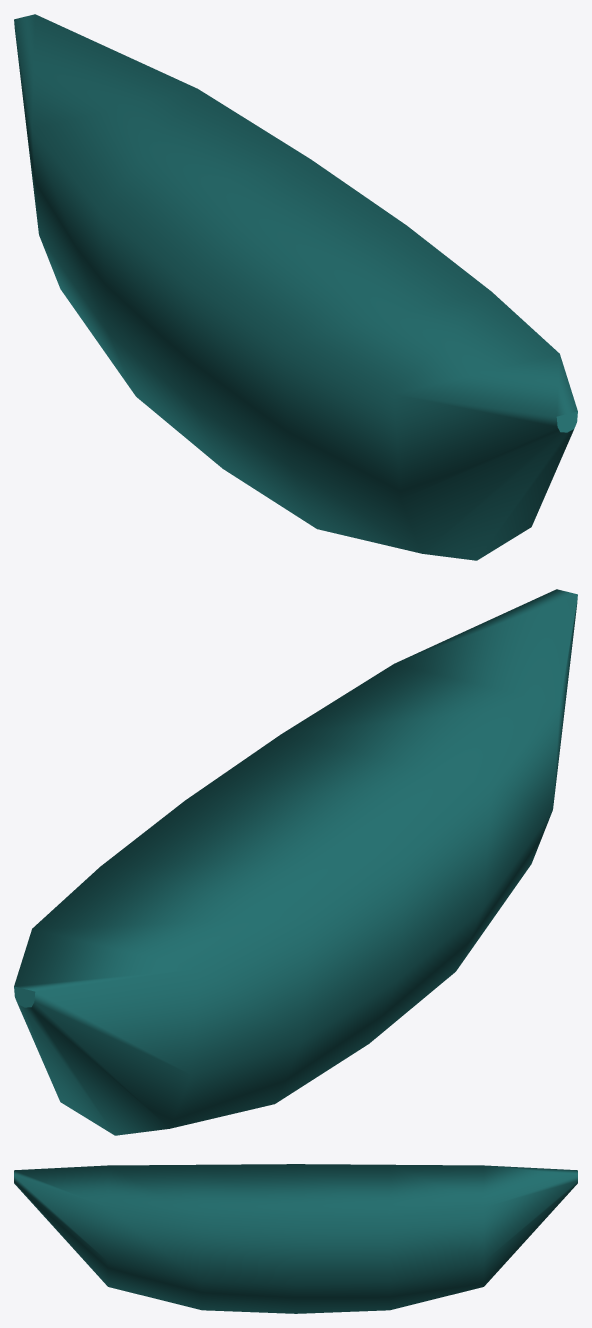
The model's file is k1_psu.obj.
3 renders of one model, top to bottom at view 1: azimuth 30°, elevation 25°; view 2: azimuth 150°, elevation 25°; view 3: azimuth 270°, elevation 25°, orthographic. The views are drawn at different scales.
Parts seen in each view (by area): view 1: k1_psu; view 2: k1_psu; view 3: k1_psu.
Part boxes in pixels (bbox=[...]): k1_psu: bbox=[14, 14, 577, 560]; k1_psu: bbox=[14, 589, 577, 1135]; k1_psu: bbox=[14, 1164, 577, 1313].
Bounding box in the file's own units: 0.25 × 0.28 × 1.06.
